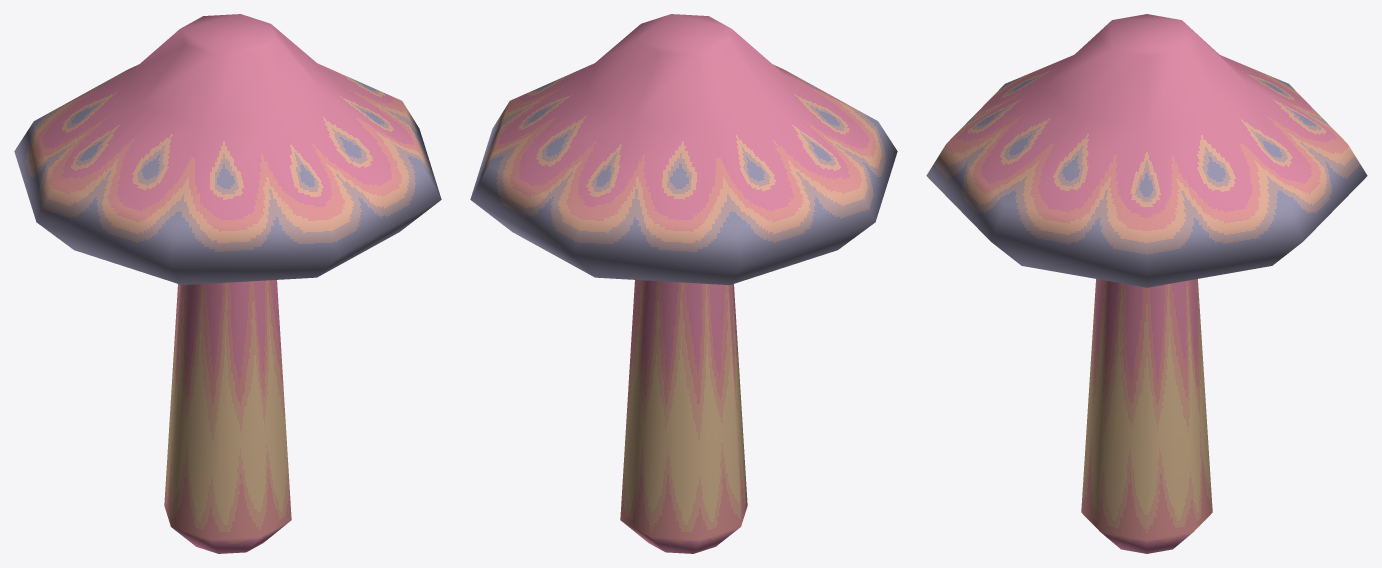
File: 02d3_Mushroom_L.glb
3 renders of one model, left to right at view 1: azimuth 30°, elevation 25°; view 2: azimuth 150°, elevation 25°; view 3: azimuth 270°, elevation 25°, orthographic.
Parts seen in each view (by area): view 1: part_0; view 2: part_0; view 3: part_0.
Boxes of the visible parts, x1,y1,x2,y2 form: part_0: (14,14,441,553); part_0: (470,14,897,553); part_0: (926,14,1367,553).
Bounding box in the file's own units: 4.53 × 5.71 × 4.53.
1 material, 1 textured.
